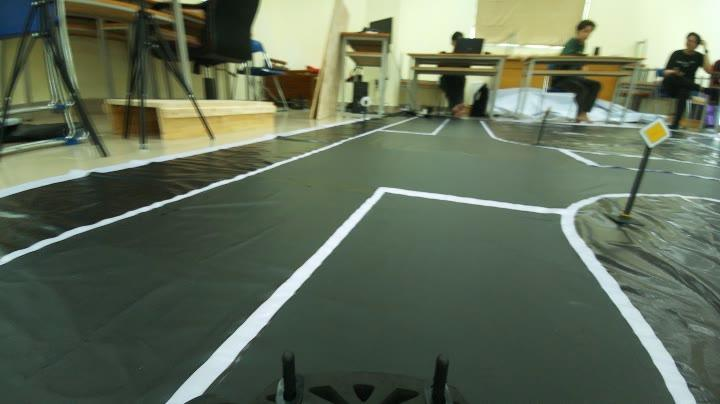priority: (636, 110, 674, 155)
